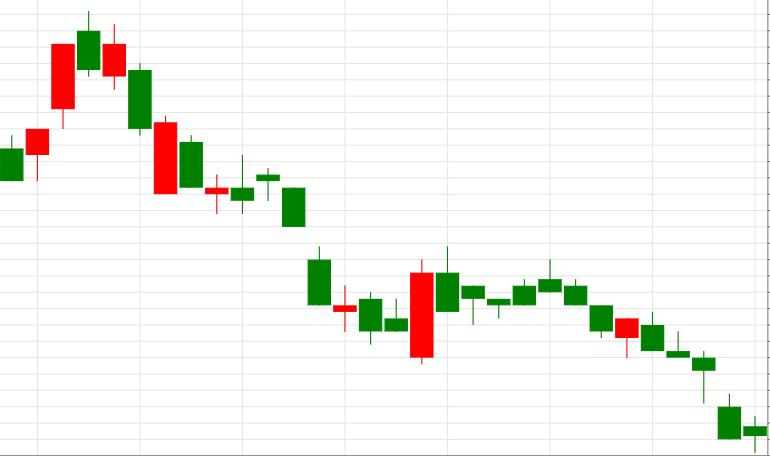bullish_engulfing_rise: (256, 168, 434, 365)
